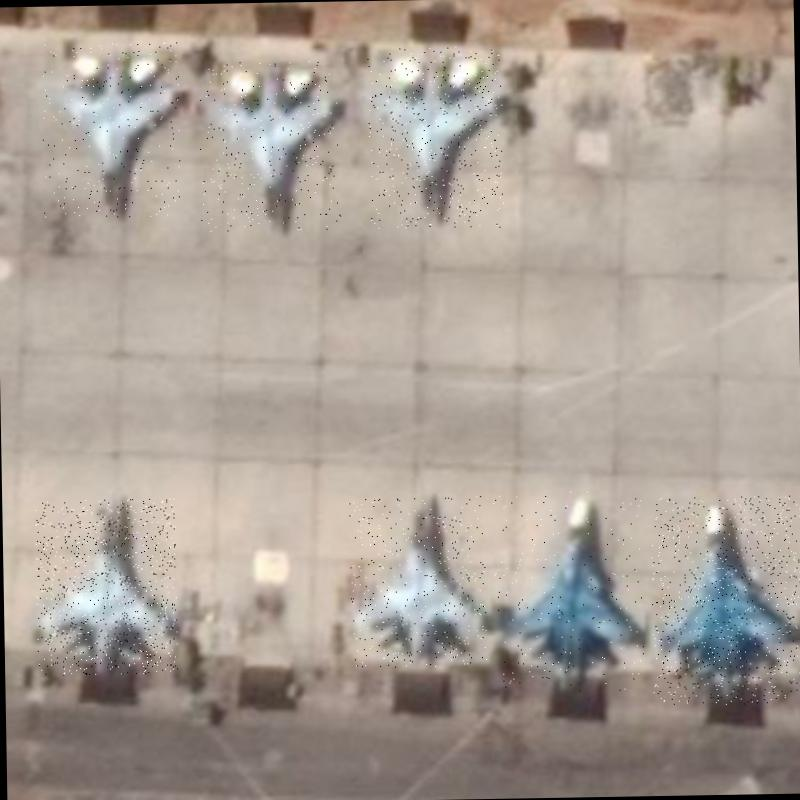A1: (367, 45, 504, 230), (35, 498, 178, 675), (198, 59, 341, 232), (40, 42, 180, 218), (348, 496, 486, 668)
A19: (649, 495, 800, 706), (492, 488, 644, 696)
